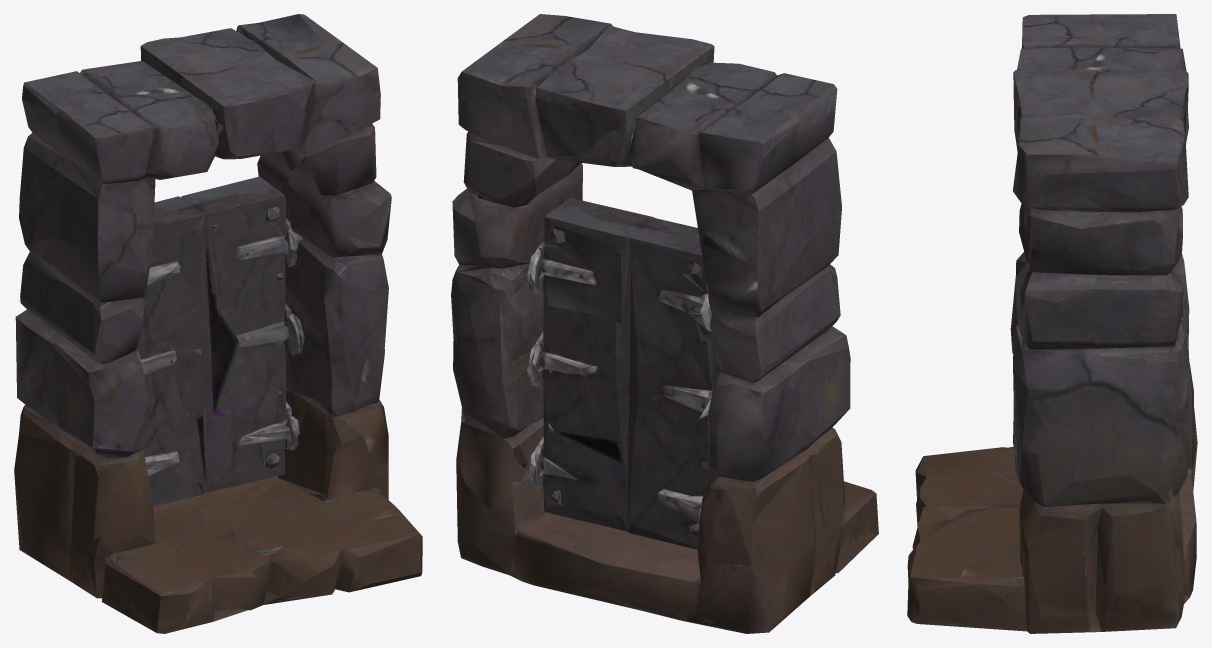
Rendered from door_caves.glb.
3 renders of one model, left to right at view 1: azimuth 30°, elevation 25°; view 2: azimuth 150°, elevation 25°; view 3: azimuth 270°, elevation 25°, orthographic. The views are drawn at different scales.
Size of the model in its own units: 1.29 by 1.9 by 1.04.
Materials: 1 (1 with a texture image).
